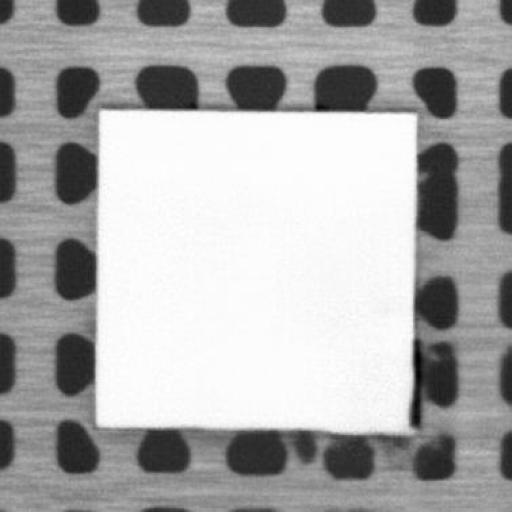DIE_BROKEN: (405, 336, 421, 430)
